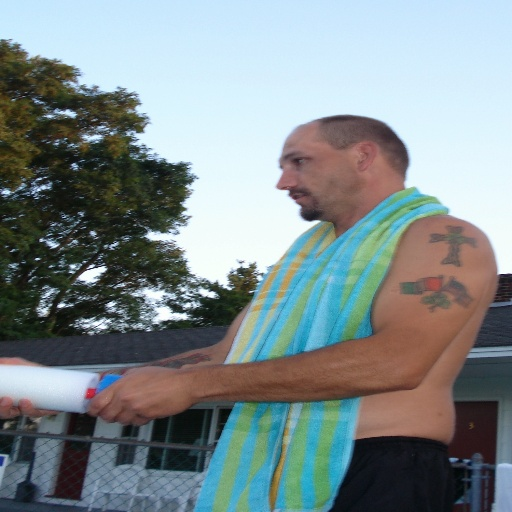hand: (80, 365, 226, 430), (0, 354, 61, 420)
